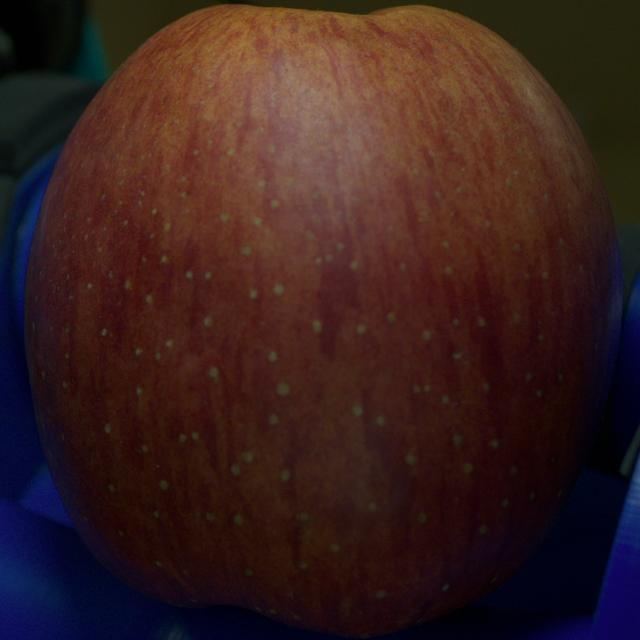apple: (25, 5, 621, 635)
